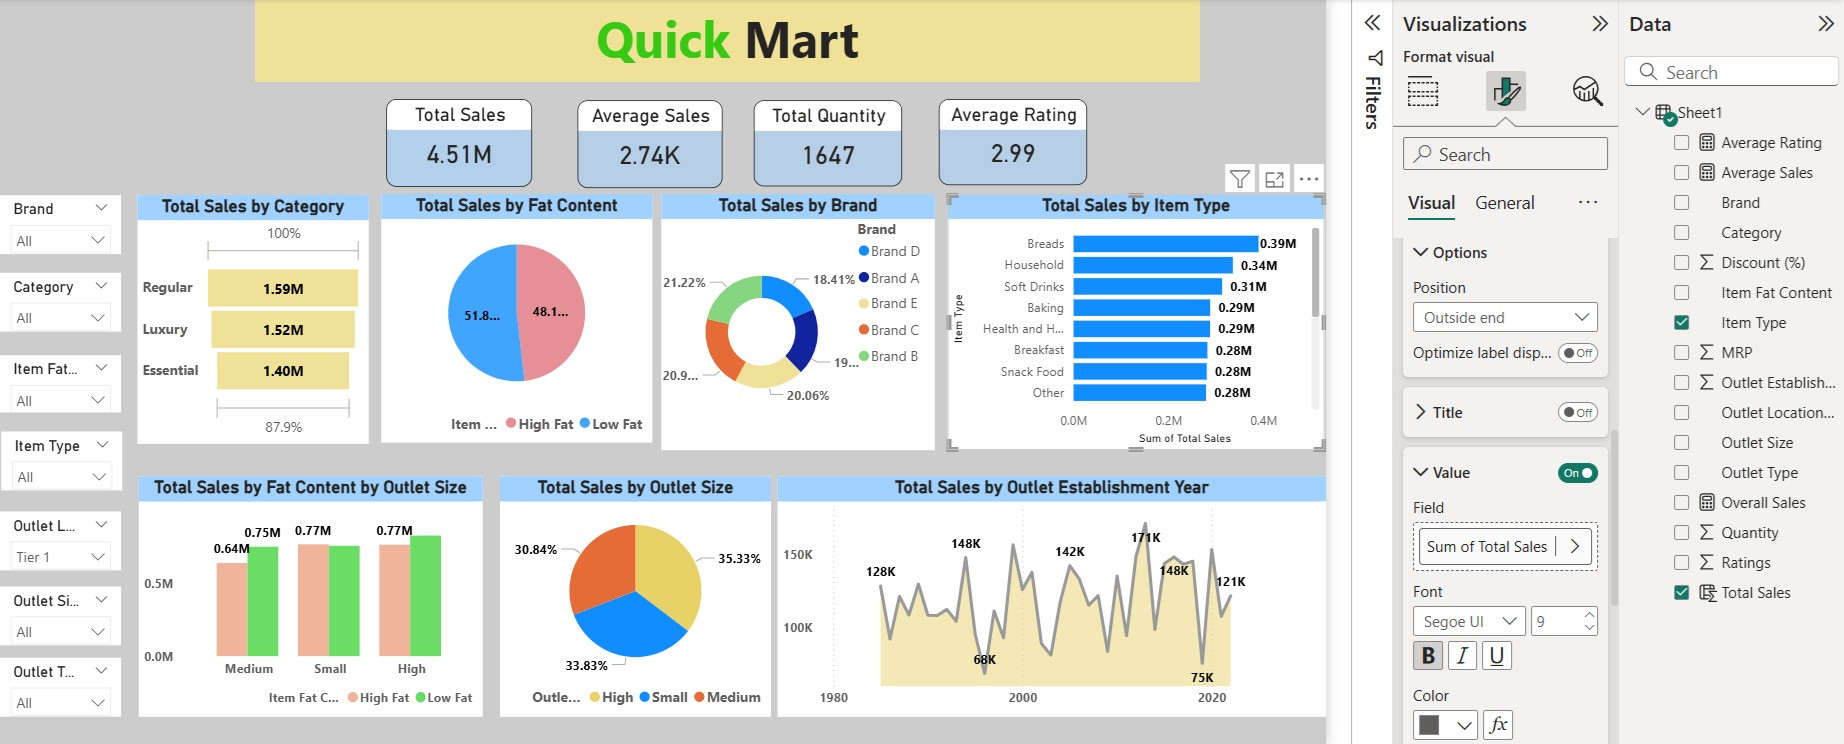

The dashboard page shown, as its layout file describes it:
{"tool":"powerbi","page":{"name":"Page 1","canvas":[1280,720],"ordinal":0},"visuals":[{"type":"textbox","box":[246.1,0,912.1,79.6],"z":0},{"type":"donutChart","title":"Total Sales by Brand","fields":{"Category":["Sheet1.Brand"],"Y":["Sum(Sheet1.Total Sales)"]},"box":[638.4,188.4,264.2,247.3],"z":1000},{"type":"pieChart","title":"Total Sales by Fat Content","fields":{"Y":["Sum(Sheet1.Total Sales)"],"Category":["Sheet1.Item Fat Content"]},"box":[368.2,188.4,261.8,240.1],"z":2000},{"type":"areaChart","title":"Total Sales by Outlet Establishment Year","fields":{"Category":["Sheet1.Outlet Establishment Year"],"Y":["Sum(Sheet1.Total Sales)"]},"box":[750.4,460.9,529.6,231.6],"z":3000},{"type":"clusteredBarChart","title":"Total Sales by Item Type","fields":{"Category":["Sheet1.Item Type"],"Y":["Sum(Sheet1.Total Sales)"]},"box":[914.7,188.4,364.3,247.3],"z":4000},{"type":"clusteredColumnChart","title":"Total Sales by Fat Content by Outlet Size","fields":{"Category":["Sheet1.Outlet Size"],"Y":["Sum(Sheet1.Total Sales)"],"Series":["Sheet1.Item Fat Content"]},"box":[133.9,460.9,331.8,231.6],"z":5000},{"type":"funnel","title":"Total Sales by Category","fields":{"Category":["Sheet1.Category"],"Y":["Sum(Sheet1.Total Sales)"]},"box":[132.9,189.7,223.2,240.1],"z":6000},{"type":"pieChart","title":"Total Sales by Outlet Size","fields":{"Y":["Sum(Sheet1.Total Sales)"],"Category":["Sheet1.Outlet Size"]},"box":[482.6,460.9,261.8,231.6],"z":7000},{"type":"card","title":"Total Sales","fields":{"Values":["Sum(Sheet1.Total Sales)"]},"box":[373.3,96.5,141.2,84.5],"z":8000},{"type":"card","title":"Total Quantity","fields":{"Values":["CountNonNull(Sheet1.Item Type)"]},"box":[728,97.7,143.6,83.2],"z":9000},{"type":"card","title":"Average Rating","fields":{"Values":["Sheet1.Average Rating"]},"box":[906.5,96.5,143.6,83.2],"z":10000},{"type":"card","title":"Average Sales","fields":{"Values":["Avg(Sheet1.Total Sales)"]},"box":[557.9,97.7,139.9,84.5],"z":11000},{"type":"slicer","fields":{"Values":["Sheet1.Brand"]},"box":[0,189.7,117,56.7],"z":12000},{"type":"slicer","fields":{"Values":["Sheet1.Category"]},"box":[0,264.5,117,56.7],"z":13000},{"type":"slicer","fields":{"Values":["Sheet1.Outlet Type"]},"box":[0,635.8,117,56.7],"z":14000},{"type":"slicer","fields":{"Values":["Sheet1.Item Fat Content"]},"box":[0,344.1,117,55.5],"z":15000},{"type":"slicer","fields":{"Values":["Sheet1.Item Type"]},"box":[1.2,417.4,117,56.7],"z":16000},{"type":"slicer","fields":{"Values":["Sheet1.Outlet Size"]},"box":[0,567,117,56.7],"z":17000},{"type":"slicer","fields":{"Values":["Sheet1.Outlet Location Type"]},"box":[0,494.6,117,56.7],"z":18000}]}

Visuals, with their boxes on the page's 1280x720 design canvas (x1, y1, x2, y2). These are canvas units, not pixel positions in the 1844x744 screenshot, which may show the page scaled, cropped or inside an application window:
textbox: (left=246, top=0, right=1158, bottom=80)
"Total Sales by Brand" donutChart: (left=638, top=188, right=903, bottom=436)
"Total Sales by Fat Content" pieChart: (left=368, top=188, right=630, bottom=428)
"Total Sales by Outlet Establishment Year" areaChart: (left=750, top=461, right=1280, bottom=692)
"Total Sales by Item Type" clusteredBarChart: (left=915, top=188, right=1279, bottom=436)
"Total Sales by Fat Content by Outlet Size" clusteredColumnChart: (left=134, top=461, right=466, bottom=692)
"Total Sales by Category" funnel: (left=133, top=190, right=356, bottom=430)
"Total Sales by Outlet Size" pieChart: (left=483, top=461, right=744, bottom=692)
"Total Sales" card: (left=373, top=96, right=514, bottom=181)
"Total Quantity" card: (left=728, top=98, right=872, bottom=181)
"Average Rating" card: (left=906, top=96, right=1050, bottom=180)
"Average Sales" card: (left=558, top=98, right=698, bottom=182)
slicer - Sheet1.Brand: (left=0, top=190, right=117, bottom=246)
slicer - Sheet1.Category: (left=0, top=264, right=117, bottom=321)
slicer - Sheet1.Outlet Type: (left=0, top=636, right=117, bottom=692)
slicer - Sheet1.Item Fat Content: (left=0, top=344, right=117, bottom=400)
slicer - Sheet1.Item Type: (left=1, top=417, right=118, bottom=474)
slicer - Sheet1.Outlet Size: (left=0, top=567, right=117, bottom=624)
slicer - Sheet1.Outlet Location Type: (left=0, top=495, right=117, bottom=551)
